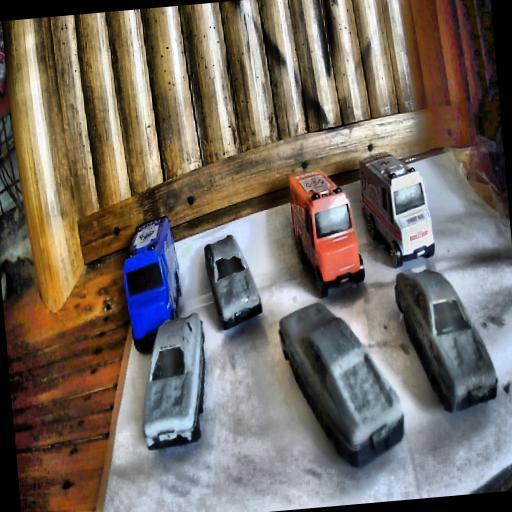ambulance: (356, 146, 436, 272)
fire_truck: (286, 165, 367, 298)
normal_car: (276, 296, 408, 473), (394, 261, 500, 415), (132, 312, 214, 450), (202, 231, 266, 332)
police car: (118, 213, 187, 352)
